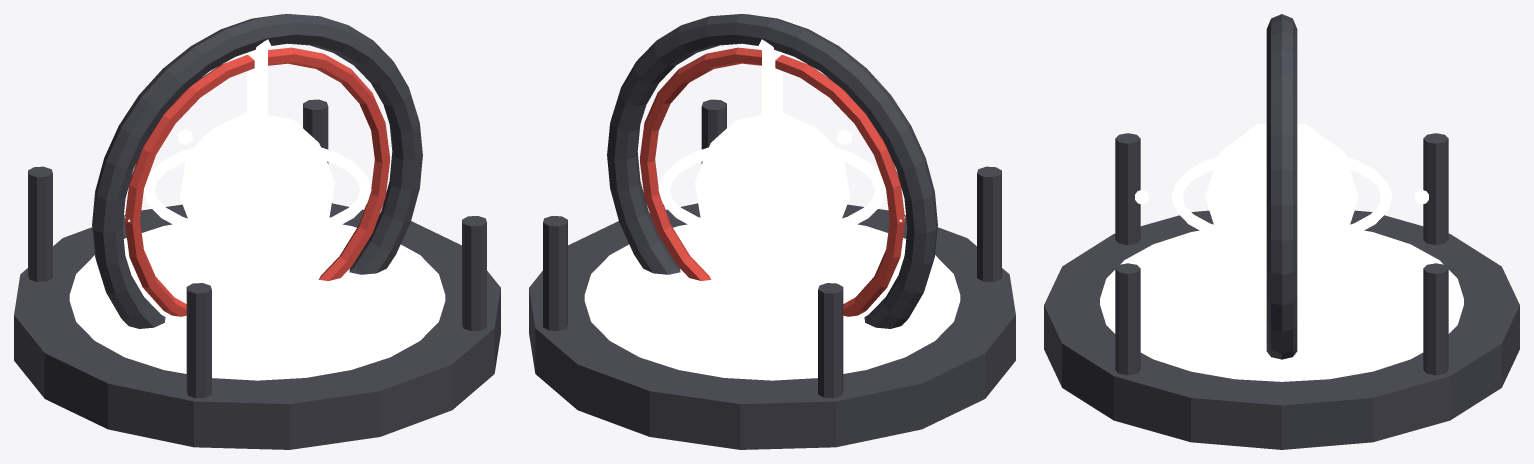
The model's file is xuanchao_reactor.fbx.
3 views of the same model, side by side, from view 1: azimuth 30°, elevation 25°; view 2: azimuth 150°, elevation 25°; view 3: azimuth 270°, elevation 25° (orthographic). The views are drawn at different scales.
Visible parts, largest first — view 1: XC_rea_pedestal, XC_rea_pedestal_red, XC_rea_ring_main, XC_rea_core, XC_rea_ring_red, XC_rea_ring_h, XC_rea_leg0, XC_rea_leg2, XC_rea_leg1, XC_rea_pillar, XC_rea_leg3; view 2: XC_rea_pedestal, XC_rea_pedestal_red, XC_rea_ring_main, XC_rea_core, XC_rea_ring_red, XC_rea_ring_h, XC_rea_leg2, XC_rea_leg0, XC_rea_leg3, XC_rea_pillar, XC_rea_leg1; view 3: XC_rea_pedestal, XC_rea_pedestal_red, XC_rea_core, XC_rea_ring_main, XC_rea_ring_h, XC_rea_leg1, XC_rea_leg3, XC_rea_leg0, XC_rea_leg2.
Part boxes in pixels (x1,y1,x2,y2): XC_rea_pedestal: (14, 203, 500, 449); XC_rea_pedestal_red: (69, 224, 445, 380); XC_rea_ring_main: (92, 14, 422, 328); XC_rea_core: (180, 112, 334, 268); XC_rea_ring_red: (125, 47, 389, 316); XC_rea_ring_h: (143, 147, 371, 241); XC_rea_leg0: (186, 283, 211, 398); XC_rea_leg2: (28, 166, 52, 281); XC_rea_leg1: (462, 216, 486, 330); XC_rea_pillar: (247, 50, 267, 125); XC_rea_leg3: (303, 99, 328, 163); XC_rea_pedestal: (529, 203, 1015, 449); XC_rea_pedestal_red: (584, 224, 960, 380); XC_rea_ring_main: (607, 14, 937, 328); XC_rea_core: (695, 112, 849, 268); XC_rea_ring_red: (640, 47, 904, 316); XC_rea_ring_h: (658, 147, 886, 241); XC_rea_leg2: (818, 283, 843, 398); XC_rea_leg0: (977, 166, 1001, 281); XC_rea_leg3: (543, 216, 567, 330); XC_rea_pillar: (762, 50, 782, 125); XC_rea_leg1: (701, 99, 726, 163); XC_rea_pedestal: (1044, 210, 1519, 449); XC_rea_pedestal_red: (1100, 230, 1463, 381); XC_rea_core: (1205, 124, 1358, 270); XC_rea_ring_main: (1266, 14, 1297, 359); XC_rea_ring_h: (1171, 156, 1392, 246); XC_rea_leg1: (1115, 263, 1140, 375); XC_rea_leg3: (1423, 263, 1448, 375); XC_rea_leg0: (1115, 133, 1140, 245); XC_rea_leg2: (1423, 133, 1448, 245).
Bounding box in the file's own units: 6.8 × 5.24 × 6.8.
